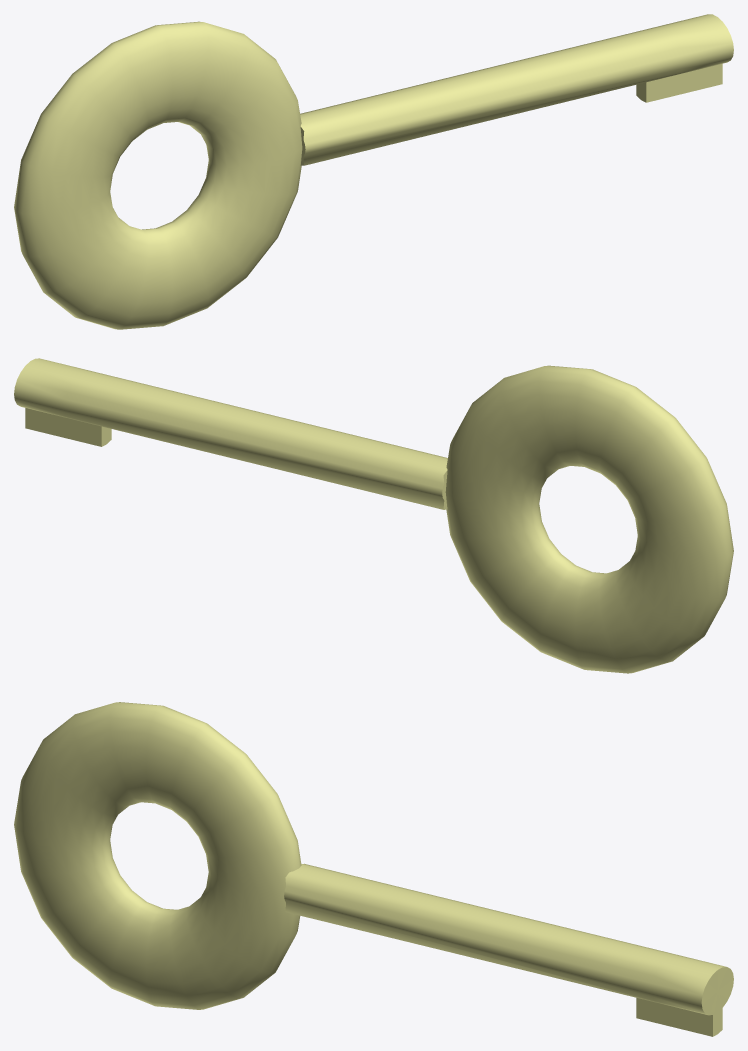
The model's file is Key.fbx.
3 renders of one model, top to bottom at view 1: azimuth 30°, elevation 25°; view 2: azimuth 150°, elevation 25°; view 3: azimuth 330°, elevation 25°, orthographic.
Visible parts, largest first — view 1: pTorus1, pCylinder1; view 2: pTorus1, pCylinder1; view 3: pTorus1, pCylinder1.
Part boxes in pixels (x1=…): pTorus1: x1=14, y1=21, x2=302, y2=329; pCylinder1: x1=300, y1=14, x2=733, y2=165; pTorus1: x1=445, y1=365, x2=733, y2=673; pCylinder1: x1=14, y1=358, x2=447, y2=509; pTorus1: x1=14, y1=702, x2=301, y2=1009; pCylinder1: x1=284, y1=863, x2=733, y2=1036.
Bounding box in the file's own units: 2.62 × 1.07 × 0.2092.
